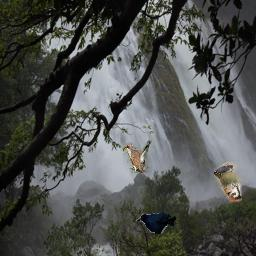Crow: (136, 212, 176, 234)
Cuckoo: (123, 133, 155, 173)
Sparrow: (214, 162, 242, 202)
